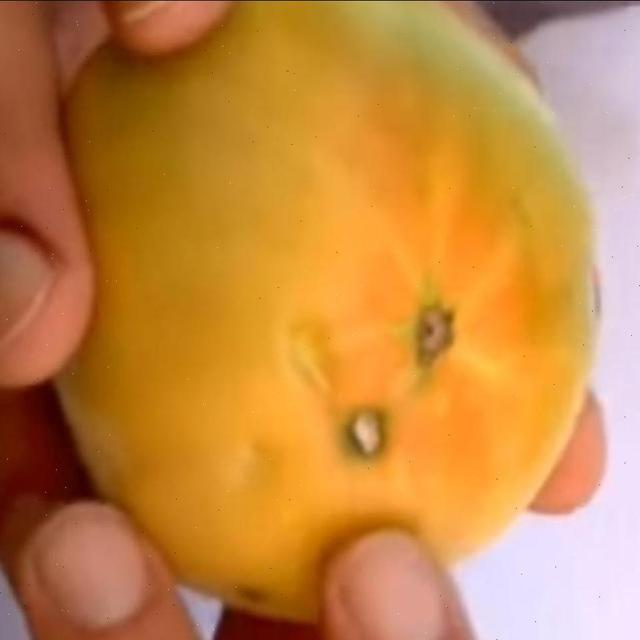Blossom End Rot Fruit: (24, 21, 246, 393)
